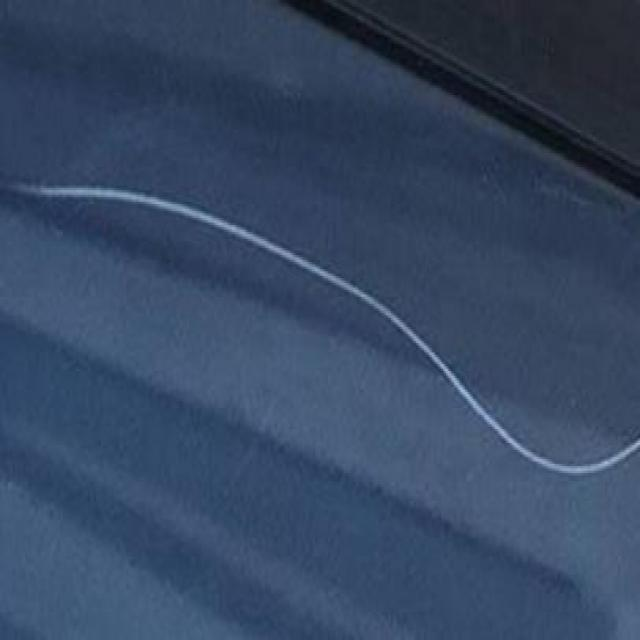scratch: (25, 172, 640, 480)
